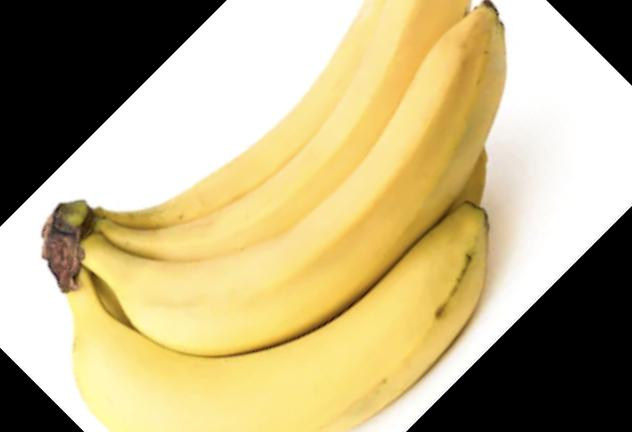Banana Ripe: (10, 0, 539, 432)
